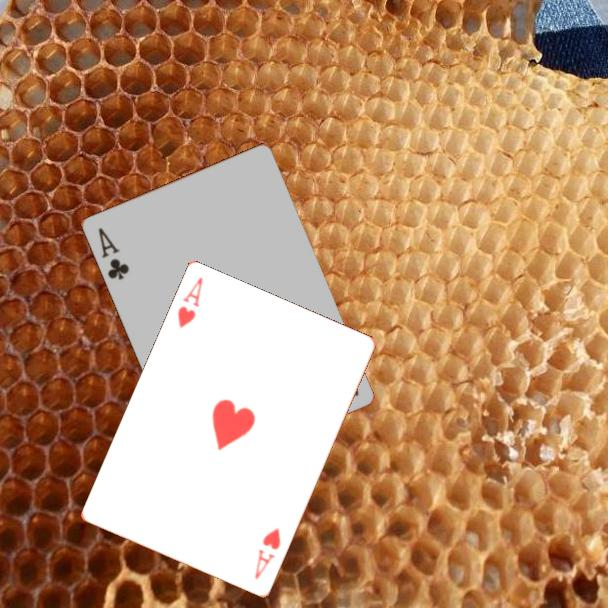c01: (94, 224, 132, 283)
h01: (251, 524, 284, 583), (174, 274, 206, 332)
